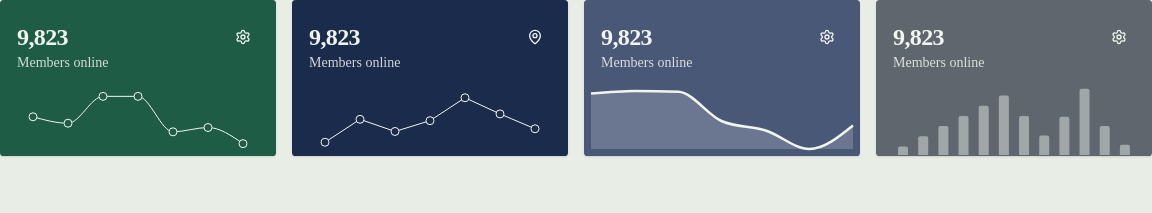
Test: WidgetsDropdown › opens a widget menu with a disabled last action
Check: the 1st text "9,823" is shown, box [17, 24, 68, 50]
Click the 1st button named "Widget options" at (243, 37), box [227, 21, 259, 53]
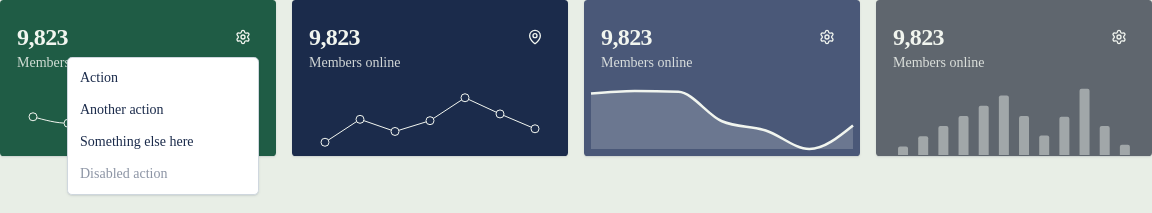
Check: the menu item "Another action" is shown, box [80, 102, 164, 117]
